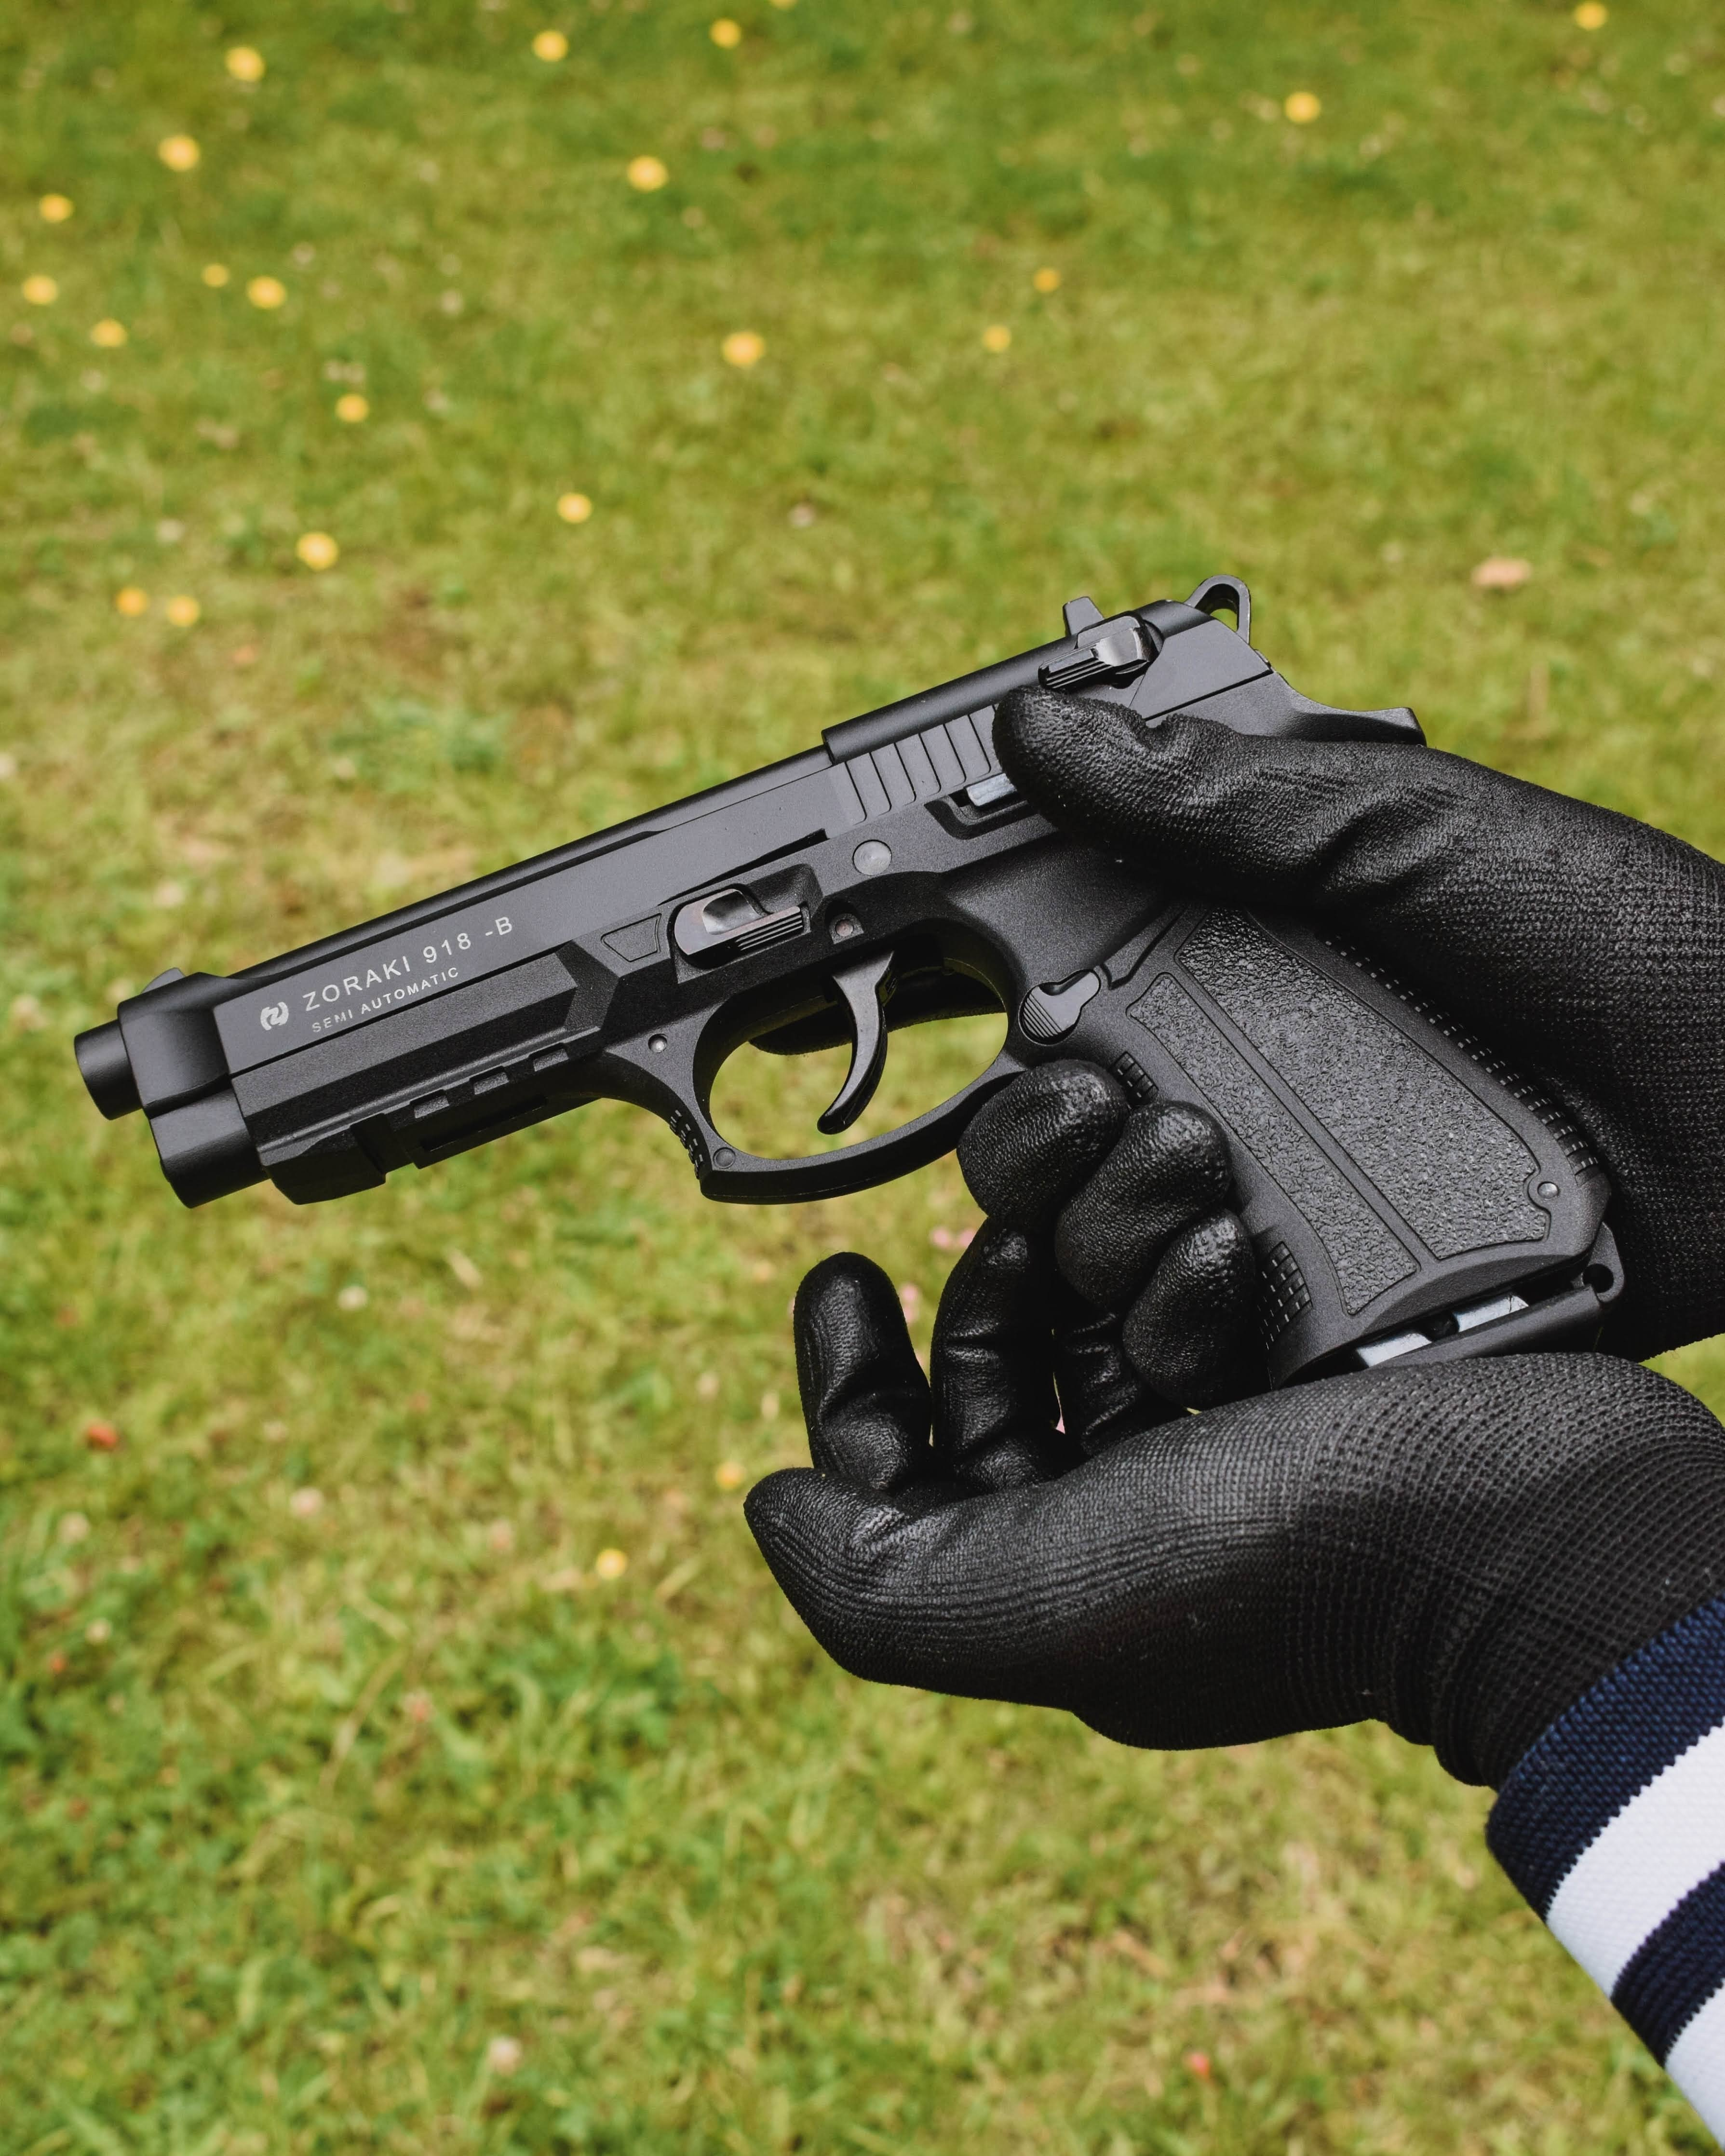gun: (58, 560, 1646, 1362)
